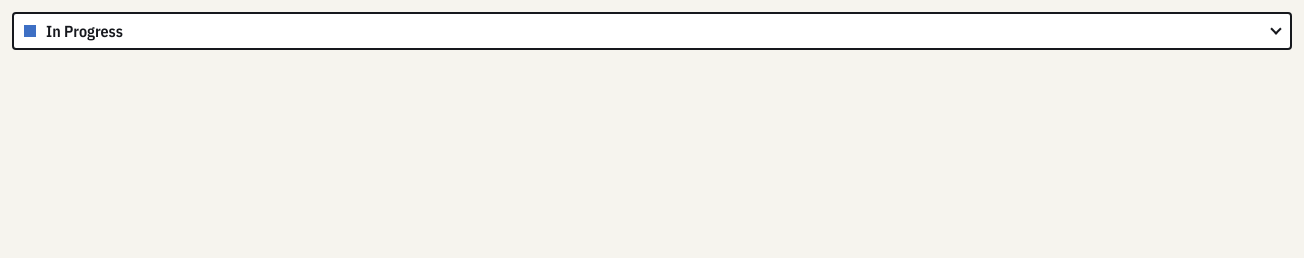
Test: the control is the shared Combobox › doesNotLoadTransitionsUntilItOpens
Click the dropdown named "status".
click(652, 31)  # box [12,12,1292,50]
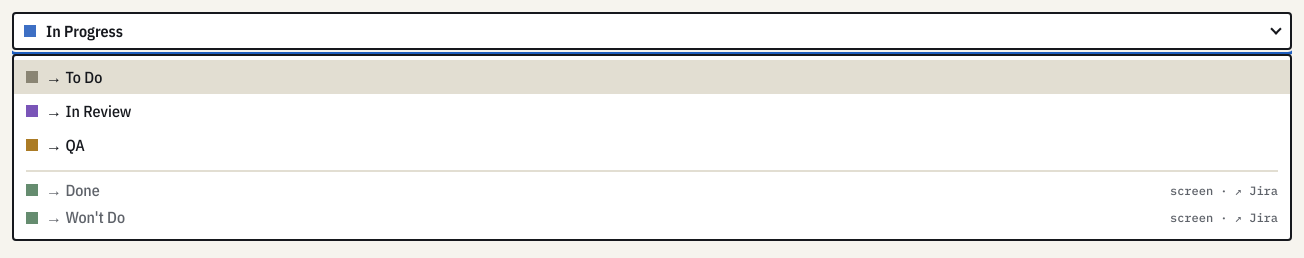
expect the list is shown: met
